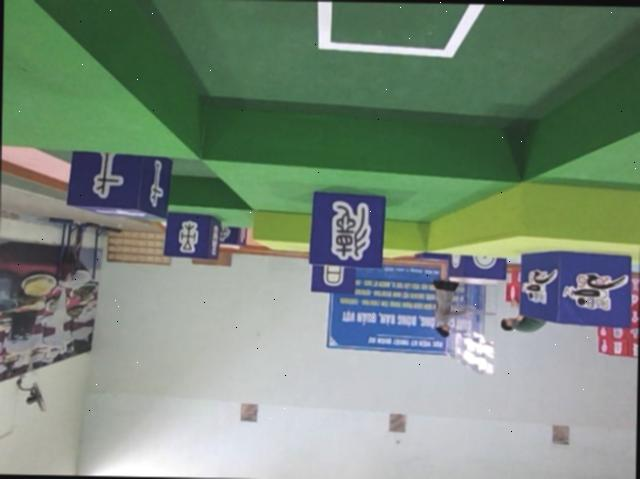R1 Blue: (520, 245, 633, 324)
R2 Fake Blue: (309, 187, 386, 267), (313, 261, 359, 292), (218, 220, 247, 245)
R2 Real Blue: (68, 149, 174, 220), (165, 209, 222, 257), (447, 252, 509, 280)
